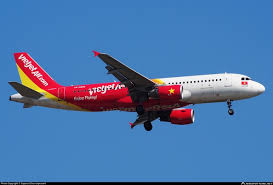maybay_dansu: (8, 51, 269, 127)
